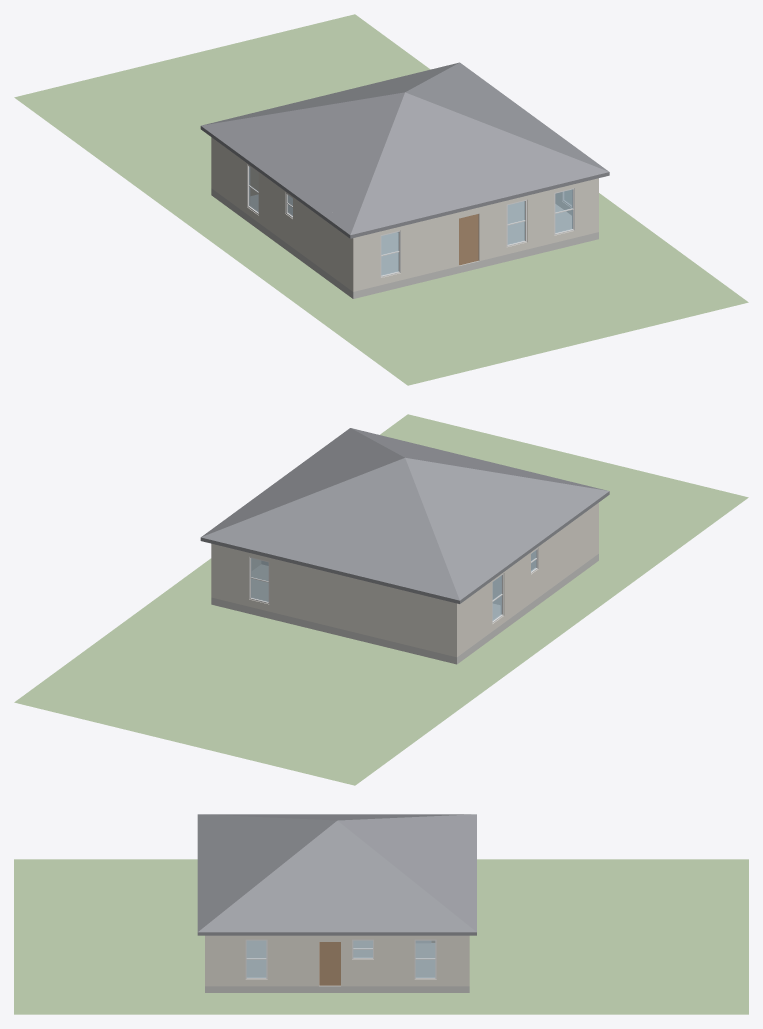
The picture shows the model from 3 angles, top to bottom: view 1: azimuth 30°, elevation 25°; view 2: azimuth 150°, elevation 25°; view 3: azimuth 270°, elevation 25°; orthographic projection. The views are drawn at different scales.
Visible parts, largest first — view 1: Lot, Hip roof, Wall ext-front, Wall ext-left, Floor First Floor, Door D01, Window N02, Window N01, Window N07; view 2: Lot, Hip roof, Wall ext-back, Wall ext-left, Floor First Floor, Window N05; view 3: Lot, Hip roof, Wall ext-right, Floor First Floor, Door D02, Window N03, Window N06, Window N04.
Part boxes in pixels (x1,y1,x2,y2): Lot: (14,14,748,385); Hip roof: (200,62,609,238); Wall ext-front: (351,178,598,291); Wall ext-left: (213,139,351,290); Floor First Floor: (211,188,598,298); Door D01: (459,214,478,265); Window N02: (555,189,572,233); Window N01: (507,201,524,244); Window N07: (381,232,398,275); Lot: (14,414,748,785); Hip roof: (200,428,609,603); Wall ext-back: (211,543,458,657); Wall ext-left: (459,504,596,655); Floor First Floor: (211,554,598,664); Window N05: (251,558,268,601); Lot: (14,859,748,1014); Hip roof: (197,814,476,935); Wall ext-right: (208,935,465,986); Floor First Floor: (205,941,469,992); Door D02: (319,942,340,985); Window N03: (246,940,266,977); Window N06: (415,940,435,977); Window N04: (353,940,372,957).
Size of the model in its own units: 15.24 by 5.33 by 30.48.
